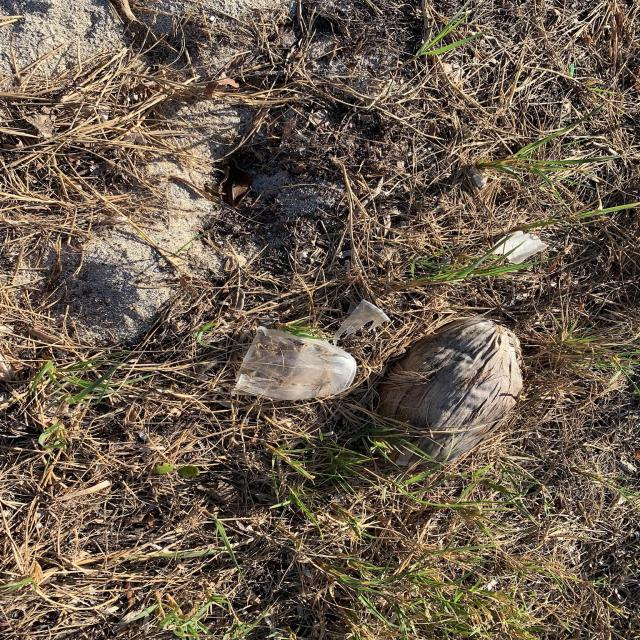litter: (232, 329, 358, 400)
